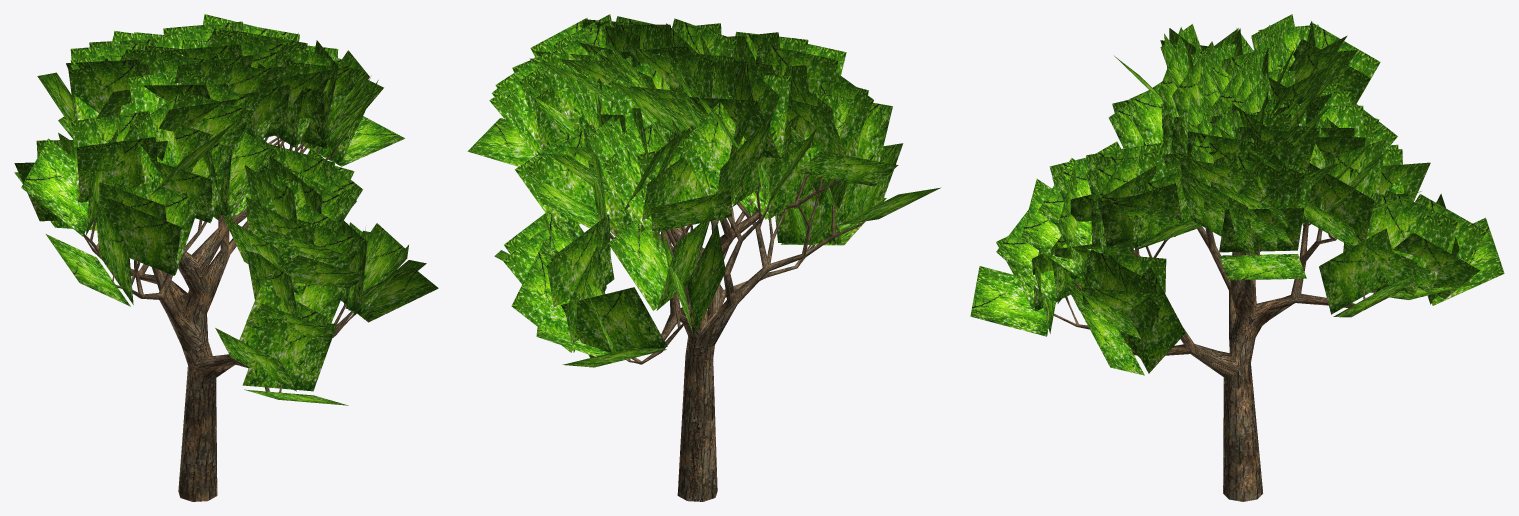
3 renders of one model, left to right at view 1: azimuth 30°, elevation 25°; view 2: azimuth 150°, elevation 25°; view 3: azimuth 270°, elevation 25°, orthographic. The views are drawn at different scales.
Visible parts, largest first — view 1: twig_009, tree_009; view 2: twig_009, tree_009; view 3: twig_009, tree_009.
Boxes of the visible parts, x1,y1,x2,y2 form: twig_009: [14, 14, 438, 405]; tree_009: [83, 129, 356, 501]; twig_009: [467, 14, 940, 367]; tree_009: [589, 124, 872, 501]; twig_009: [970, 14, 1504, 375]; tree_009: [1053, 221, 1400, 501].
Bounding box in the file's own units: 15.5 × 18.66 × 17.43.
2 materials, 2 textured.
